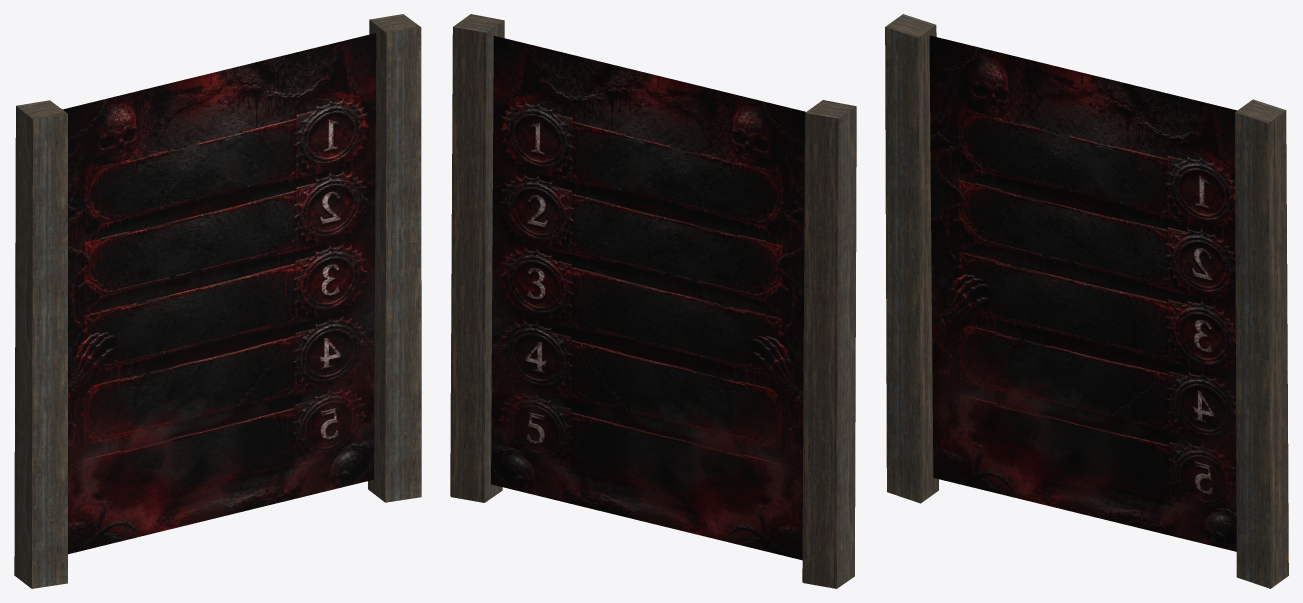
Rendered from leadboard.glb.
3 views of the same model, side by side, from view 1: azimuth 30°, elevation 25°; view 2: azimuth 150°, elevation 25°; view 3: azimuth 330°, elevation 25° (orthographic).
Visible parts, largest first — view 1: leader board, leader board.001, leader board.002; view 2: leader board, leader board.001, leader board.002; view 3: leader board, leader board.002, leader board.001.
Boxes of the visible parts, x1,y1,x2,y2 form: leader board: (62,33,376,554); leader board.001: (14,100,67,588); leader board.002: (368,14,421,502); leader board: (491,35,805,560); leader board.001: (802,100,856,588); leader board.002: (450,14,504,502); leader board: (929,35,1237,551); leader board.002: (1235,99,1288,588); leader board.001: (885,14,938,503).
Bounding box in the file's own units: 5.07 × 5.9 × 0.4471.
2 materials, 2 textured.
